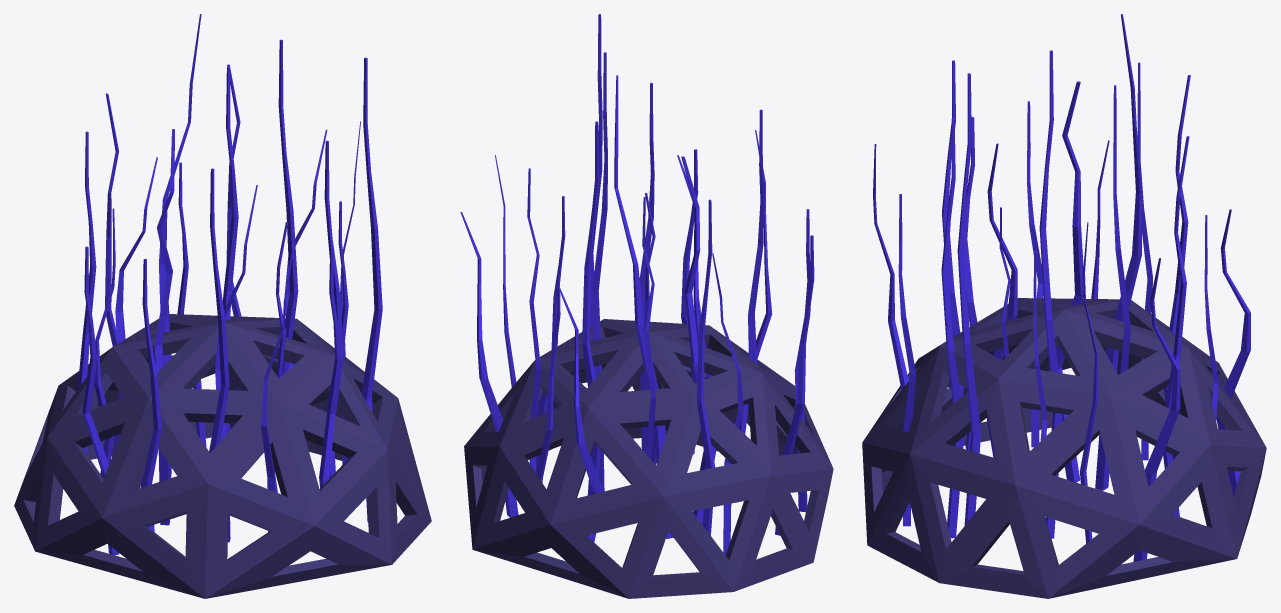
The model's file is VL_Plant05.fbx.
The picture shows the model from 3 angles, left to right: view 1: azimuth 30°, elevation 25°; view 2: azimuth 150°, elevation 25°; view 3: azimuth 270°, elevation 25°; orthographic projection. The views are drawn at different scales.
Visible parts, largest first — view 1: VL_Plant05; view 2: VL_Plant05; view 3: VL_Plant05.
Boxes of the visible parts, x1,y1,x2,y2 form: VL_Plant05: [14, 14, 431, 598]; VL_Plant05: [460, 14, 833, 598]; VL_Plant05: [862, 14, 1266, 598].
Size of the model in its own units: 63.47 by 80.5 by 59.51.
Materials: 1 (1 with a texture image).
